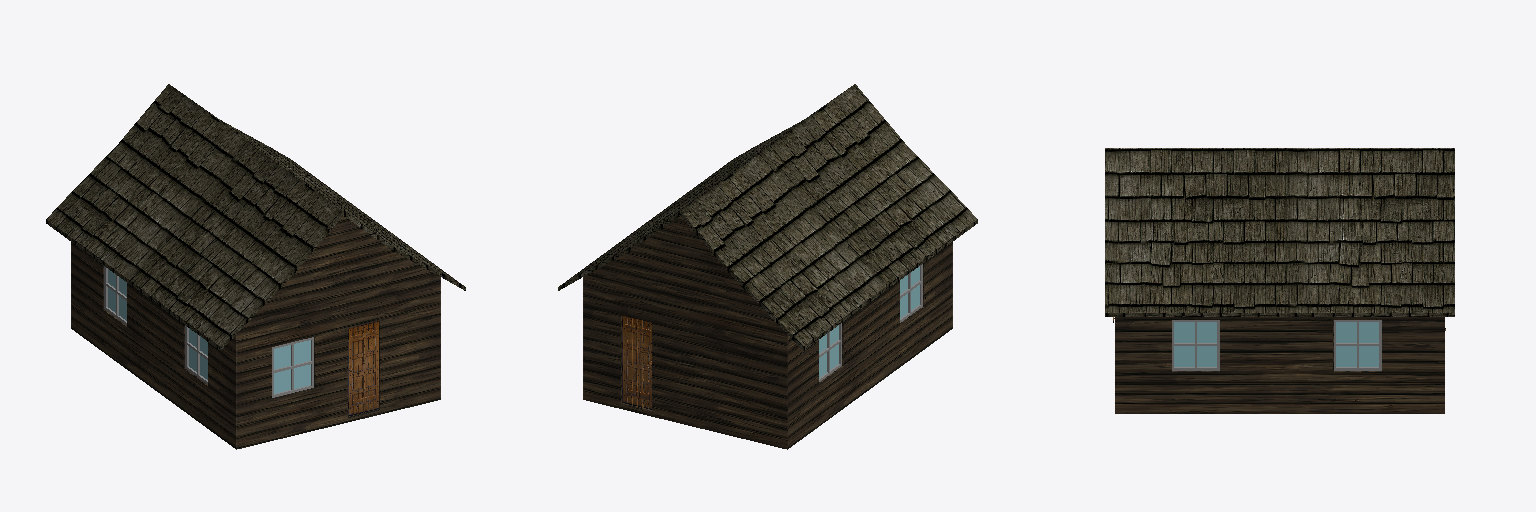
3 views of the same model, side by side, from view 1: azimuth 30°, elevation 25°; view 2: azimuth 150°, elevation 25°; view 3: azimuth 270°, elevation 25° (orthographic).
Parts seen in each view (by area): view 1: MedievalHouse; view 2: MedievalHouse; view 3: MedievalHouse.
Boxes of the visible parts, box(x1,y1,x2,y2) form: MedievalHouse: box(46, 84, 465, 449); MedievalHouse: box(558, 84, 977, 449); MedievalHouse: box(1105, 148, 1454, 413).
Size of the model in its own units: 600 by 507 by 740.
5 materials, 3 textured.